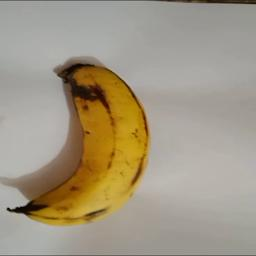Banana Semifresh: (17, 64, 153, 225)
